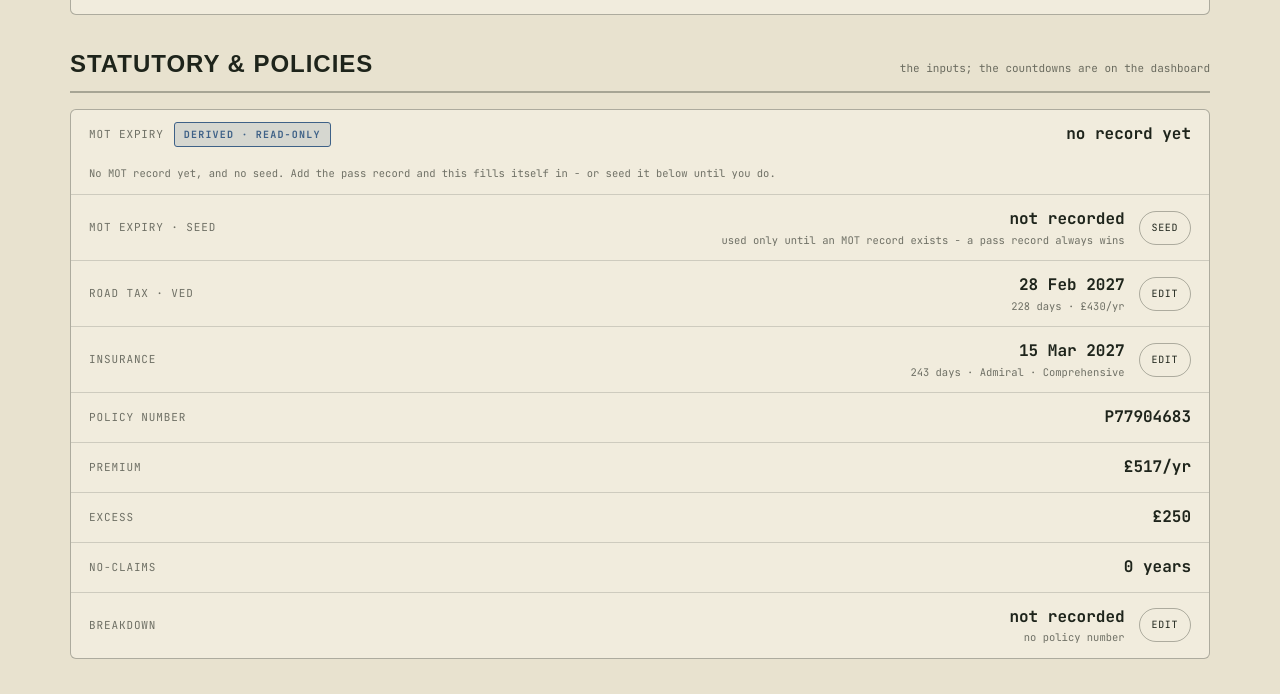
the vehicle screen - the editors › seeds an editor from the stored values rather than opening blank
(page scrolled)
What coordinates should you click on to do the following:
click the button with aria-label "Edit the insurance policy"
I would click on:
 (1165, 360)
Its box is [1139,343,1191,377].
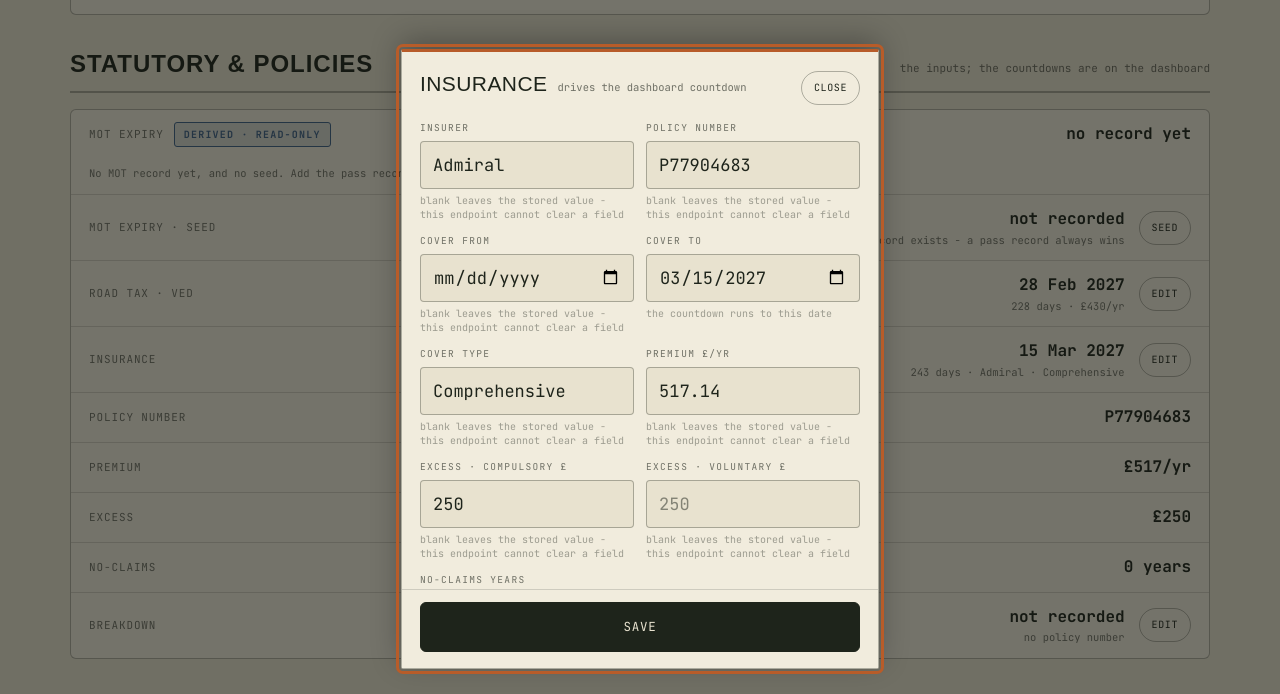
Expected: the field labelled "Insurer" holds "Admiral", [420,141,634,189]
Expected: the field labelled "Cover type" holds "Comprehensive", [420,367,634,415]
Expected: the field labelled "Premium £/yr" holds "517.14", [646,367,860,415]
